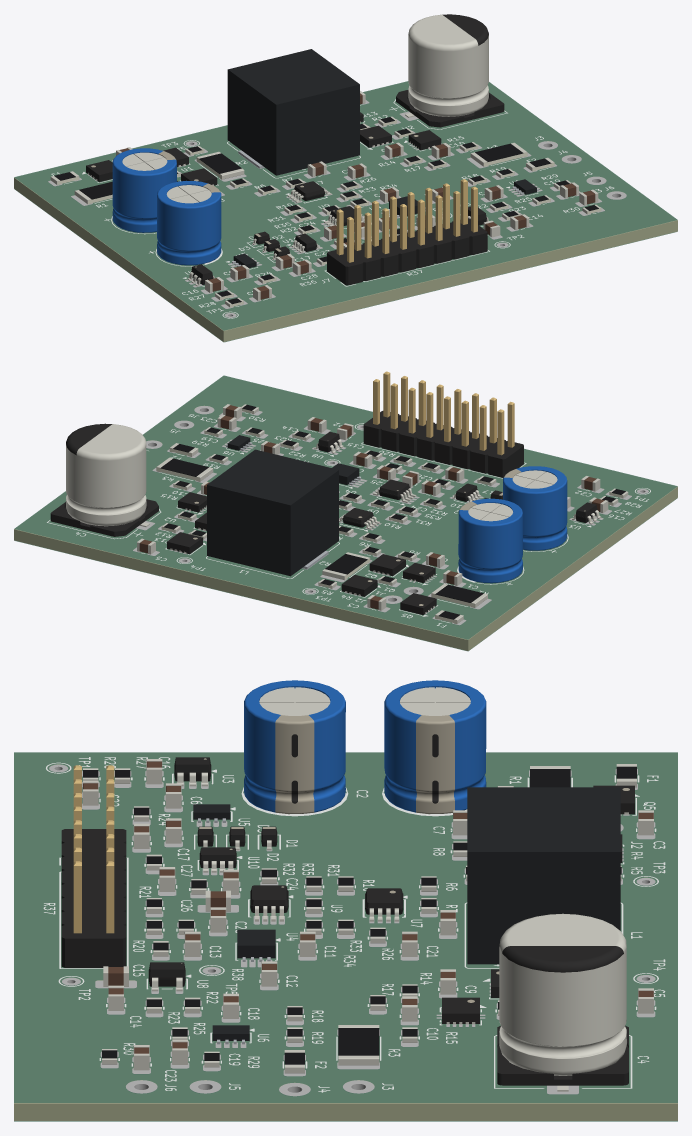
File: board.glb
The picture shows the model from 3 angles, top to bottom: view 1: azimuth 30°, elevation 25°; view 2: azimuth 150°, elevation 25°; view 3: azimuth 270°, elevation 25°; orthographic projection. The views are drawn at different scales.
Visible parts, largest first — view 1: =>[0:1:1:63], =>[0:1:1:61], SRR1210_nominal_envelope (Shell), =>[0:1:1:9], =>[0:1:1:58] (×2), =>[0:1:1:52], =>[0:1:1:59], =>[0:1:1:60], =>[0:1:1:20] (×3), =>[0:1:1:62], =>[0:1:1:37], =>[0:1:1:13]; view 2: =>[0:1:1:63], =>[0:1:1:61], SRR1210_nominal_envelope (Shell), =>[0:1:1:9], =>[0:1:1:58] (×2), =>[0:1:1:52], =>[0:1:1:59], =>[0:1:1:60], =>[0:1:1:20] (×3), =>[0:1:1:13] (×4), =>[0:1:1:35] (×2), =>[0:1:1:62] (+3 smaller); view 3: =>[0:1:1:61], =>[0:1:1:63], =>[0:1:1:58] (×2), SRR1210_nominal_envelope (Shell), =>[0:1:1:52], =>[0:1:1:9], =>[0:1:1:60], =>[0:1:1:59], =>[0:1:1:20] (×2), =>[0:1:1:33], =>[0:1:1:37], DGN8_envelope (Shell) (+5 smaller).
Boxes of the visible parts, box(x1,y1,x2,y2) form: =>[0:1:1:63]: box(14, 82, 677, 341); =>[0:1:1:61]: box(14, 81, 677, 330); SRR1210_nominal_envelope (Shell): box(227, 49, 359, 175); =>[0:1:1:9]: box(327, 179, 487, 285); =>[0:1:1:58] (×2): box(112, 148, 221, 265); =>[0:1:1:52]: box(396, 14, 504, 127); =>[0:1:1:59]: box(48, 100, 626, 317); =>[0:1:1:60]: box(51, 99, 614, 318); =>[0:1:1:20] (×3): box(74, 142, 527, 204); =>[0:1:1:62]: box(14, 189, 677, 342); =>[0:1:1:37]: box(287, 181, 331, 202); =>[0:1:1:13]: box(360, 125, 391, 147); =>[0:1:1:63]: box(14, 376, 677, 650); =>[0:1:1:61]: box(14, 375, 677, 639); SRR1210_nominal_envelope (Shell): box(207, 449, 338, 576); =>[0:1:1:9]: box(363, 371, 523, 477); =>[0:1:1:58] (×2): box(458, 466, 567, 583); =>[0:1:1:52]: box(50, 423, 158, 536); =>[0:1:1:59]: box(133, 406, 648, 625); =>[0:1:1:60]: box(47, 412, 650, 627); =>[0:1:1:20] (×3): box(156, 457, 487, 607); =>[0:1:1:13] (×4): box(167, 532, 436, 614); =>[0:1:1:35] (×2): box(178, 492, 435, 582); =>[0:1:1:62]: box(14, 498, 677, 651); =>[0:1:1:61]: box(14, 752, 677, 1102); =>[0:1:1:63]: box(14, 753, 677, 1120); =>[0:1:1:58] (×2): box(244, 680, 486, 814); SRR1210_nominal_envelope (Shell): box(467, 787, 620, 964); =>[0:1:1:52]: box(497, 913, 628, 1091); =>[0:1:1:9]: box(61, 765, 126, 967); =>[0:1:1:60]: box(43, 757, 665, 1092); =>[0:1:1:59]: box(49, 764, 655, 1096); =>[0:1:1:20] (×2): box(338, 766, 570, 1065); =>[0:1:1:33]: box(250, 885, 288, 921); =>[0:1:1:37]: box(365, 888, 403, 921); DGN8_envelope (Shell): box(237, 929, 275, 958).
Size of the model in its own units: 0.065 by 0.0135 by 0.052.
